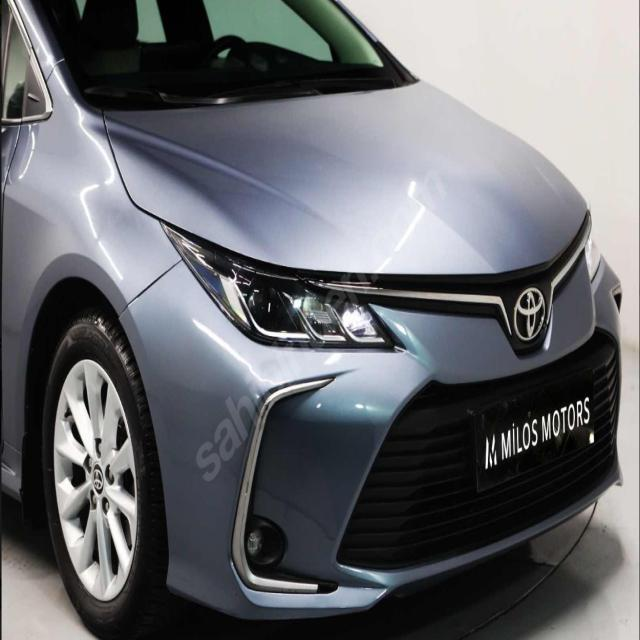toyota: (512, 282, 547, 340)
